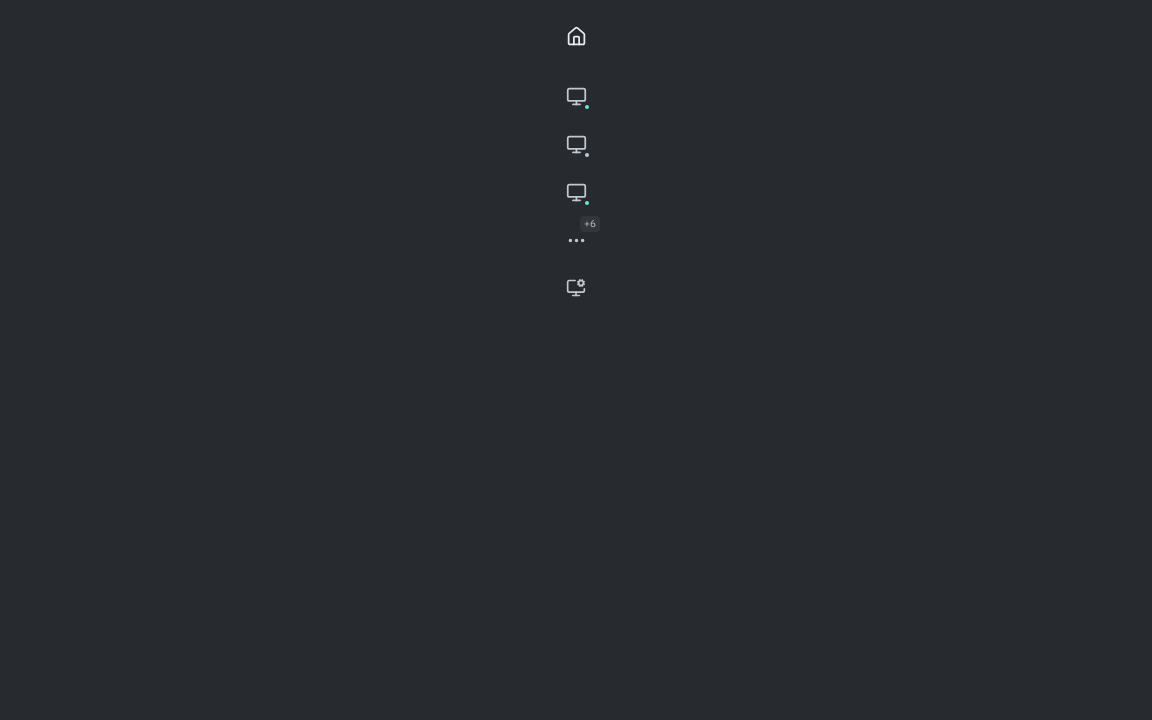
Test: shows a compact additional-count badge with an accessible name (en)
Expected: the text "+6" is shown, [580,216,600,232]
Step 1. Click the button "+6" → click(576, 240), box [556,220,596,260]
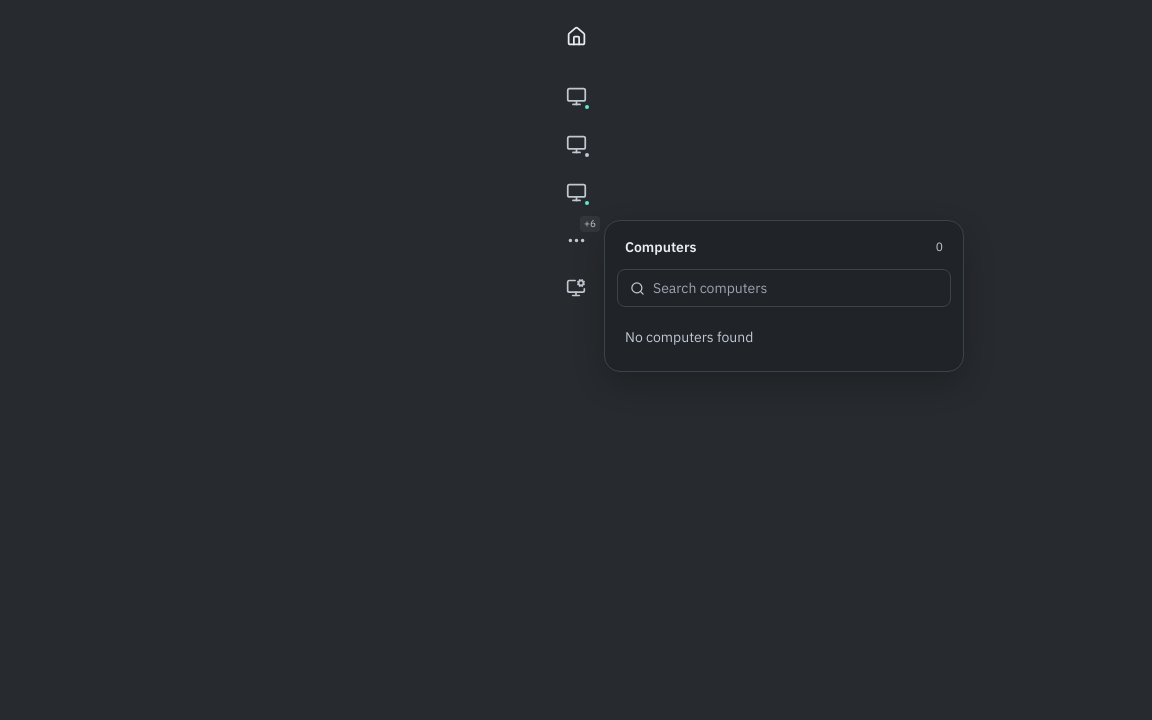
Now the dialog is shown
Step 2. Press Escape in the dialog, box [604,220,964,372]
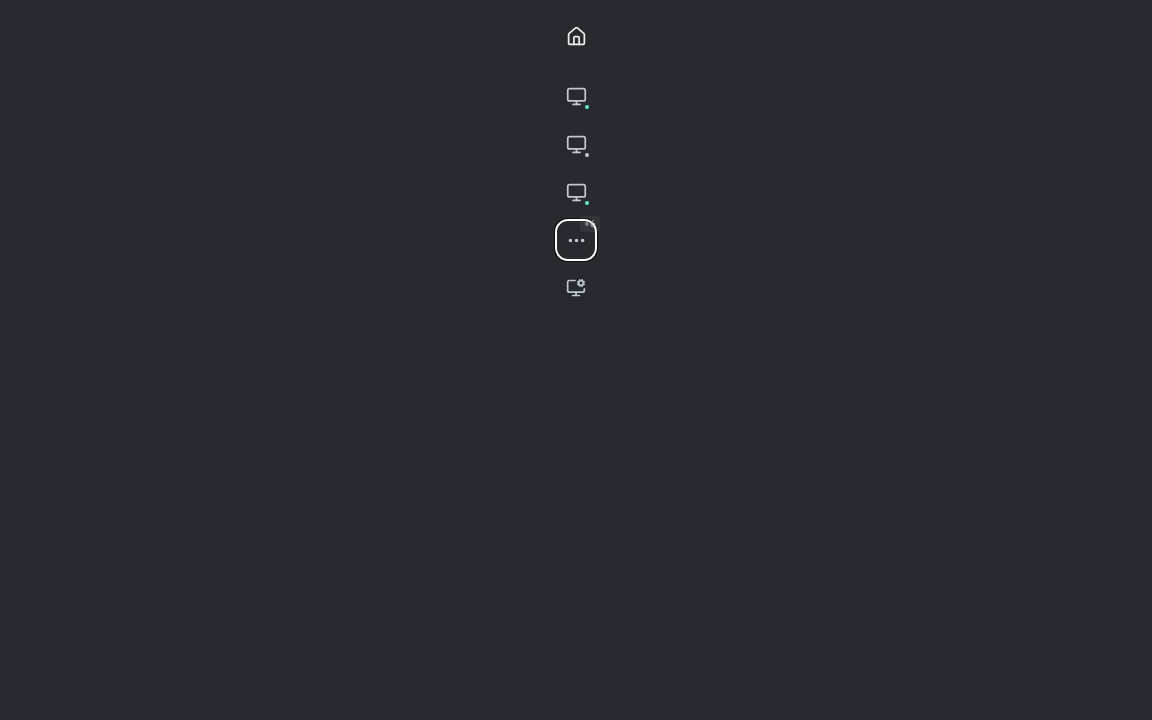
Now the dialog is gone
